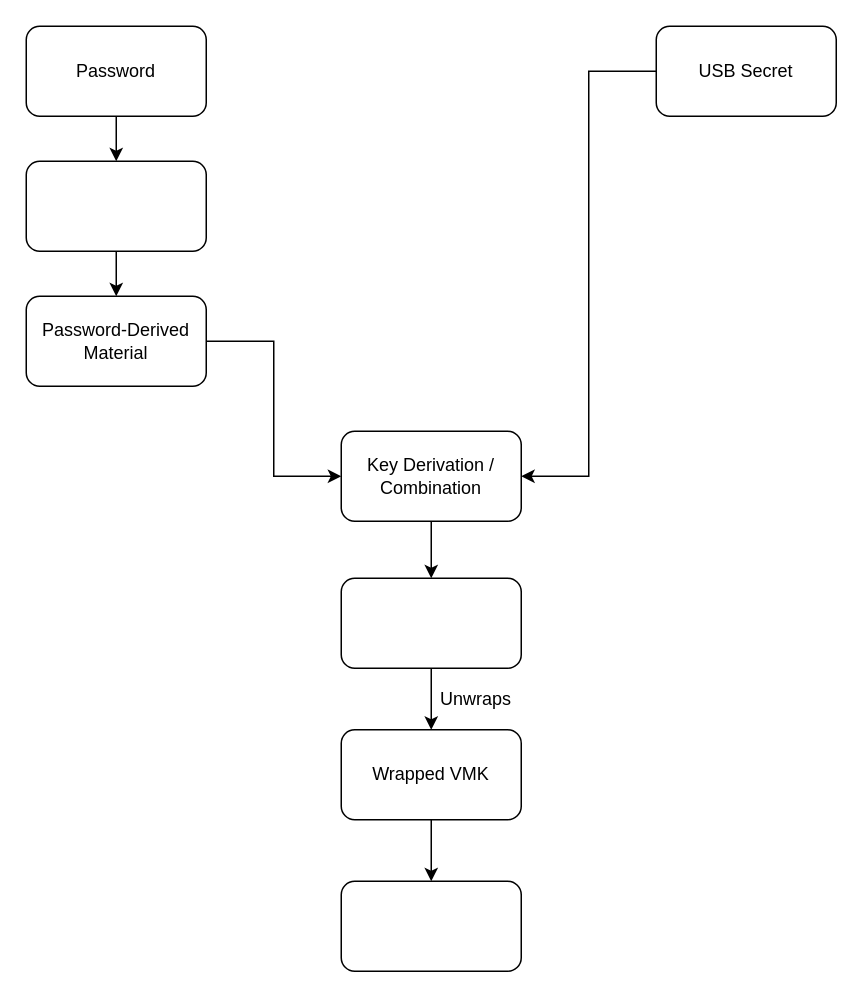
Image size: 863x998. Some labels were removed from this diagram. The centre of each missing label's shape, as x and y in pixels:
"Normal Unlock Key" belongs at point (430, 622).
"Password KDF" belongs at point (115, 205).
"VMK" belongs at point (430, 925).
